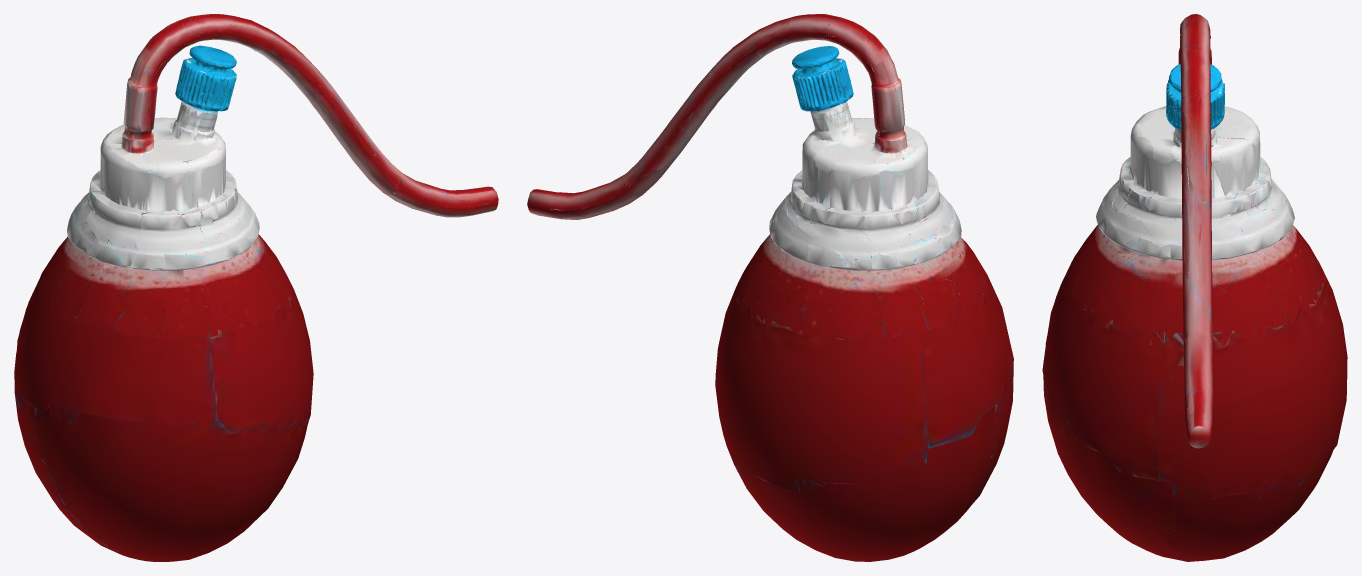
The model's file is jp_full.glb.
3 views of the same model, side by side, from view 1: azimuth 30°, elevation 25°; view 2: azimuth 150°, elevation 25°; view 3: azimuth 270°, elevation 25° (orthographic). The views are drawn at different scales.
Visible parts, largest first — view 1: Mesh_0; view 2: Mesh_0; view 3: Mesh_0.
Part boxes in pixels (x1,y1,x2,y2): Mesh_0: (14, 14, 498, 561); Mesh_0: (527, 14, 1013, 561); Mesh_0: (1042, 14, 1347, 561).
Bounding box in the file's own units: 1.75 × 1.9 × 0.9691.
Materials: 1 (1 with a texture image).
